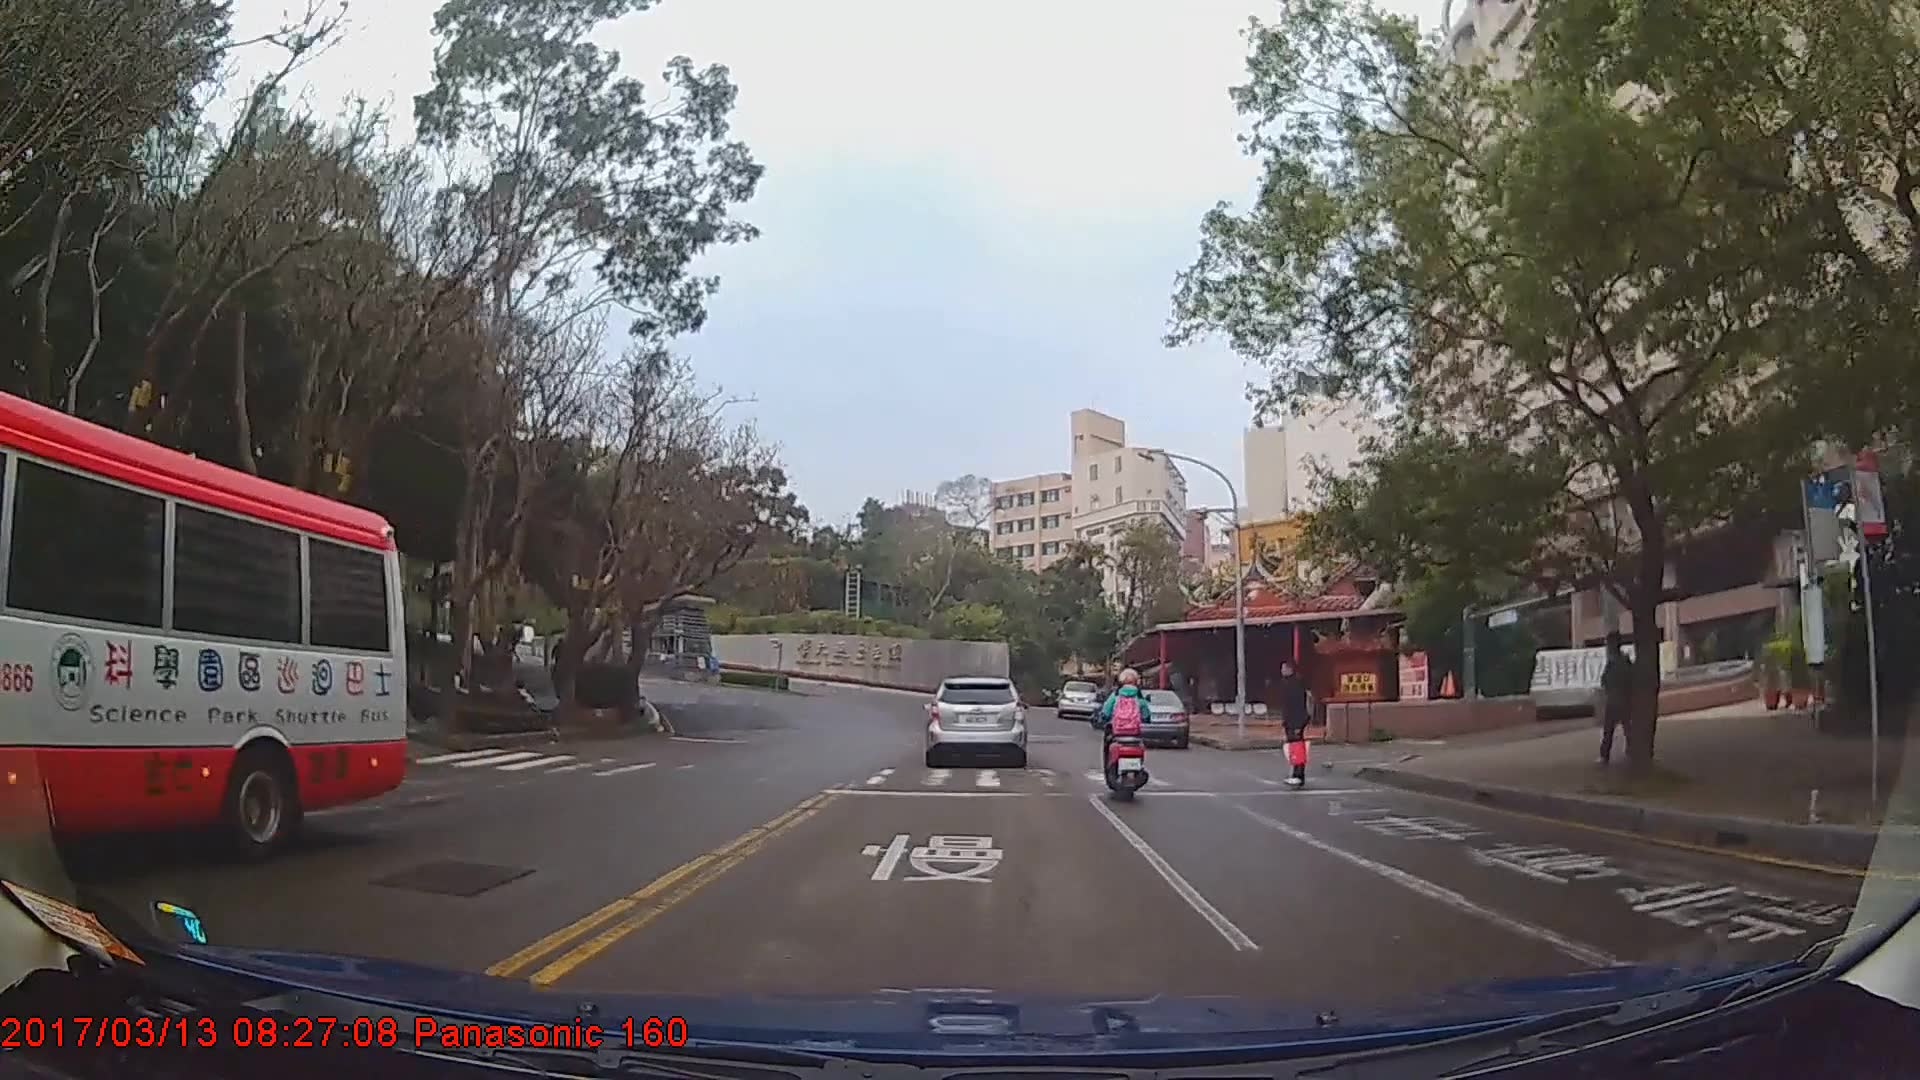pedestrian: (1275, 654, 1320, 790)
rider: (1095, 669, 1156, 802)
vehicle: (0, 385, 404, 864), (926, 672, 1028, 765), (1116, 686, 1191, 750), (1058, 680, 1101, 719)
